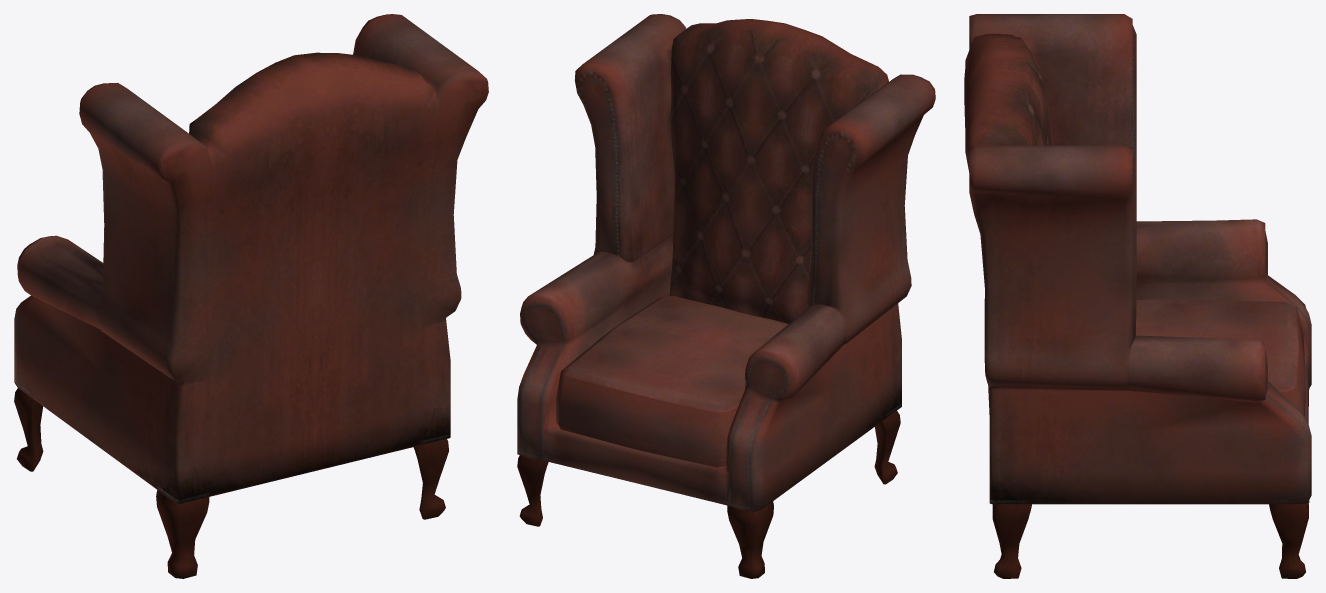
File: chair.obj
3 renders of one model, left to right at view 1: azimuth 30°, elevation 25°; view 2: azimuth 150°, elevation 25°; view 3: azimuth 270°, elevation 25°, orthographic. The views are drawn at different scales.
Visible parts, largest first — view 1: chair_chesterfield; view 2: chair_chesterfield; view 3: chair_chesterfield.
Part boxes in pixels (bbox=[...]): chair_chesterfield: bbox=[14, 14, 488, 578]; chair_chesterfield: bbox=[517, 14, 935, 578]; chair_chesterfield: bbox=[964, 14, 1311, 578].
Size of the model in its own units: 1.05 by 1.47 by 0.9951.
Materials: 1 (1 with a texture image).
